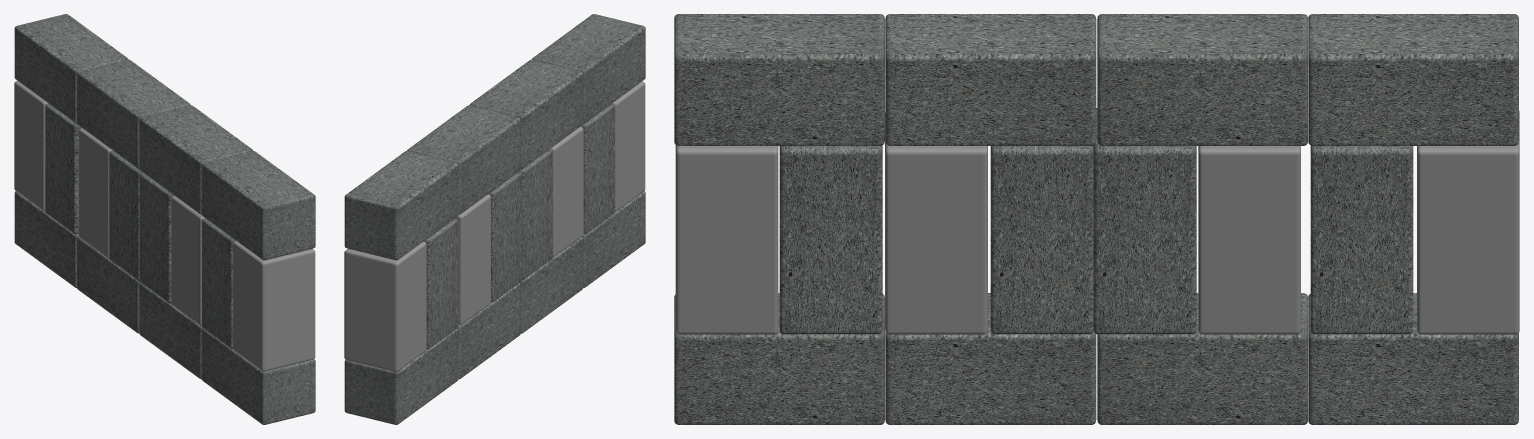
File: kamien.FBX
The picture shows the model from 3 angles, left to right: view 1: azimuth 30°, elevation 25°; view 2: azimuth 150°, elevation 25°; view 3: azimuth 270°, elevation 25°; orthographic projection. The views are drawn at different scales.
Visible parts, largest first — view 1: scianka; view 2: scianka; view 3: scianka.
Part boxes in pixels (bbox=[...]): scianka: bbox=[14, 14, 315, 424]; scianka: bbox=[344, 14, 645, 424]; scianka: bbox=[674, 14, 1519, 424].
Bounding box in the file's own units: 2.22 × 8.55 × 17.71.
2 materials, 1 textured.
